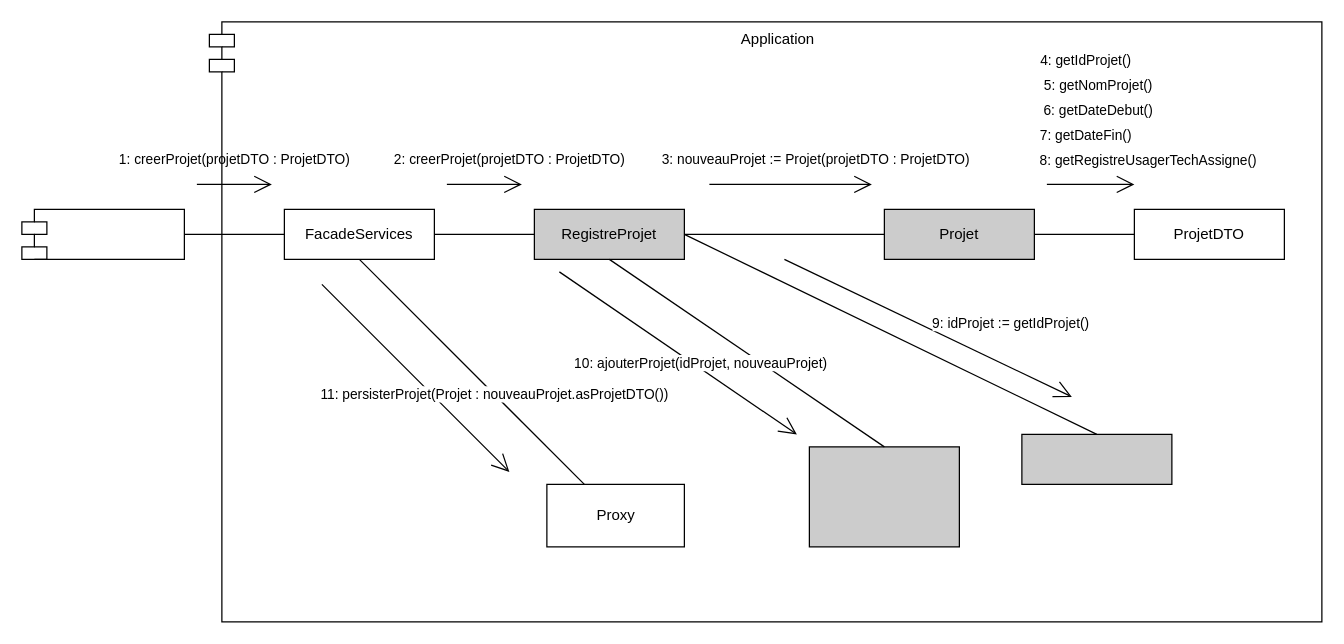
The diagram is 1344 pixels wide and 644 high, and some of its shapes have lost their labels. The shapes that lost their labels are listed below. From the top down, each one's box as (x1, y1, x2, y2) in pixels, then its label:
(21, 208, 184, 259): Coordonnateur
(1021, 433, 1172, 484): nouveauProjet: Projet
(808, 446, 959, 547): RegistreProjet: TreeMap<Integer, Projet>
